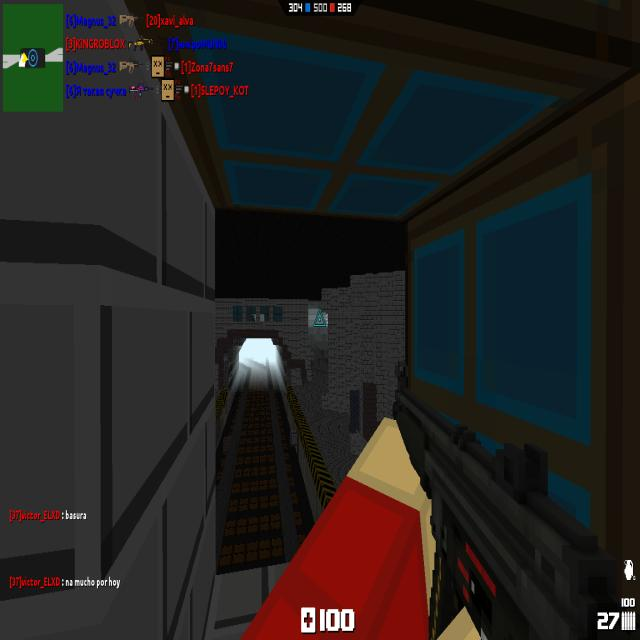enemy: (325, 314, 329, 326), (252, 314, 256, 322)
